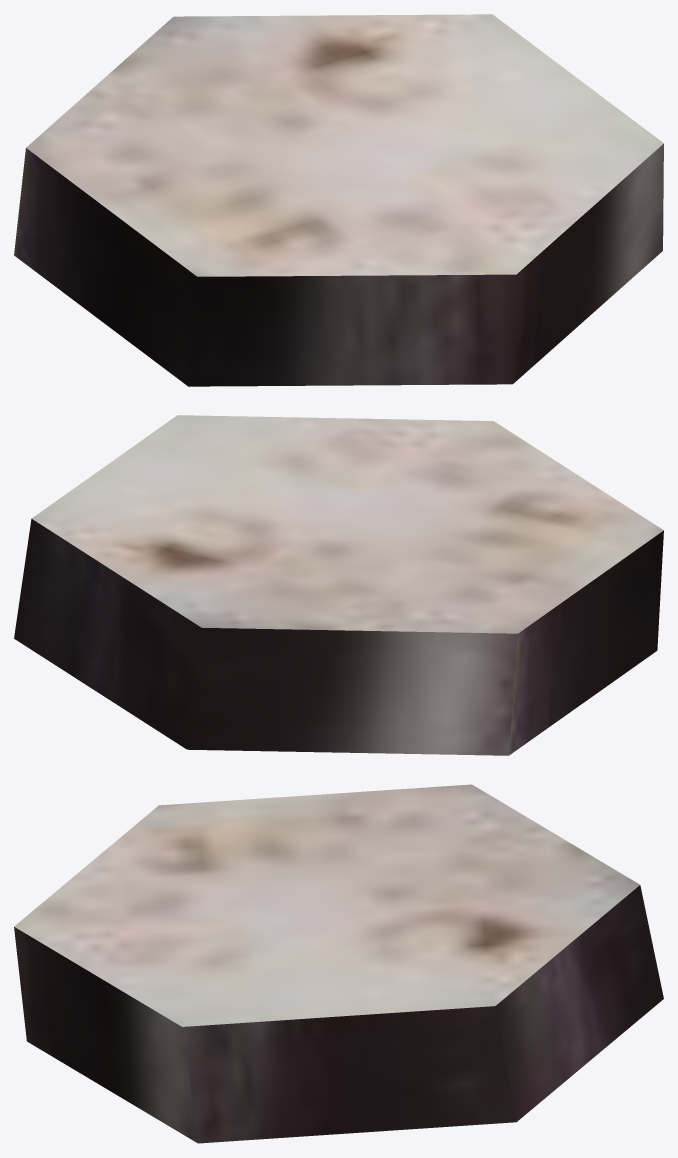
The model's file is Eggplant_03.glb.
The picture shows the model from 3 angles, top to bottom: view 1: azimuth 30°, elevation 25°; view 2: azimuth 150°, elevation 25°; view 3: azimuth 270°, elevation 25°; orthographic projection.
Visible parts, largest first — view 1: Eggplant_03; view 2: Eggplant_03; view 3: Eggplant_03.
Part boxes in pixels (left/top/right/bottom): Eggplant_03: left=14, top=14, right=663, bottom=386; Eggplant_03: left=14, top=415, right=663, bottom=755; Eggplant_03: left=14, top=784, right=663, bottom=1143.
Size of the model in its own units: 0.0603 by 0.0169 by 0.0692.
1 material, 1 textured.
